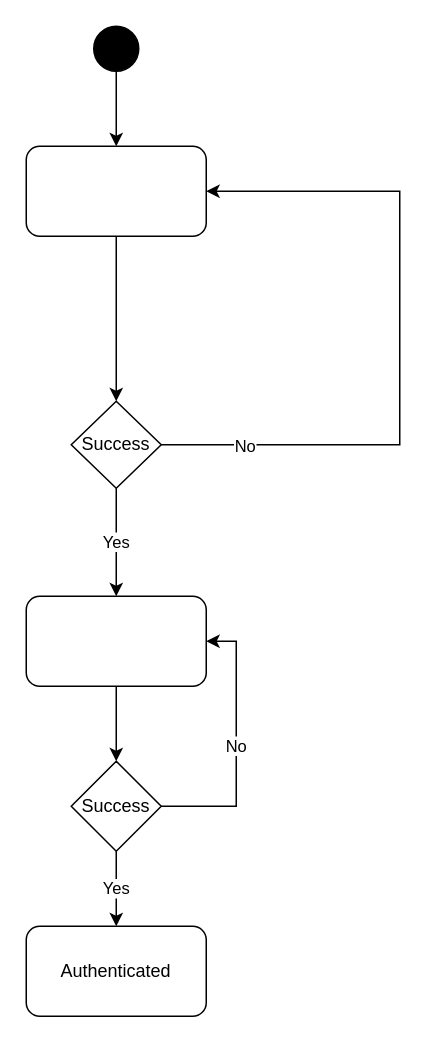
This 438x1043 diagram has some shape labels left out. Here are the shapes that lost their labels. From the top down, the centre of each, then its label:
the point at 115,190: Register
the point at 115,640: Login
